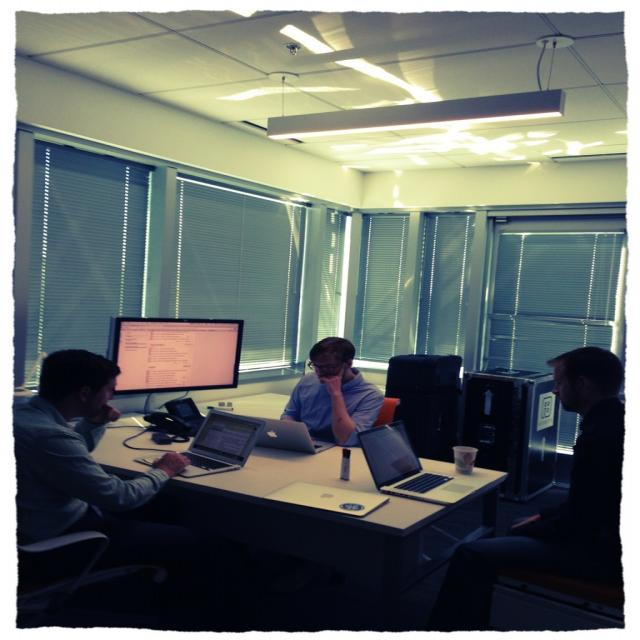chair: (17, 531, 166, 628), (383, 354, 464, 458), (375, 397, 400, 425)
desk: (95, 395, 503, 532)
laptop: (356, 420, 487, 506), (162, 408, 266, 479), (252, 417, 336, 454)
person: (428, 347, 626, 629), (15, 349, 224, 589), (279, 337, 385, 444)
tv: (105, 317, 245, 400)
